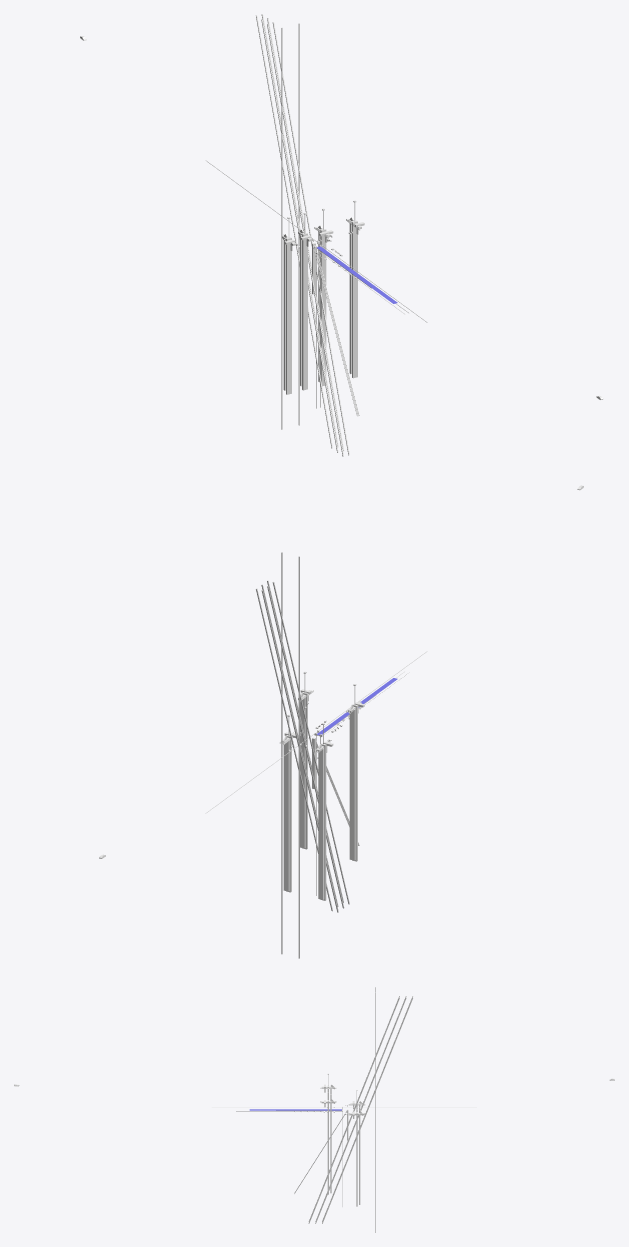
Rendered from TriangleEnvironment.glb.
3 views of the same model, one above another, from view 1: azimuth 30°, elevation 25°; view 2: azimuth 150°, elevation 25°; view 3: azimuth 270°, elevation 25° (orthographic). The views are drawn at different scales.
Parts seen in each view (by area): view 1: CombinedMesh (×4), Cube (1); view 2: CombinedMesh (×5), Cube; view 3: CombinedMesh (×2).
Part boxes in pixels (left/top/right/bottom): CombinedMesh (×4): left=256, top=14, right=364, bottom=456; Cube (1): left=320, top=229, right=326, bottom=386; CombinedMesh (×5): left=256, top=552, right=364, bottom=958; Cube: left=283, top=740, right=289, bottom=891; CombinedMesh (×2): left=316, top=987, right=413, bottom=1221.
Bounding box in the file's own units: 395 × 400 × 905.
Materials: 9 (2 with a texture image).
